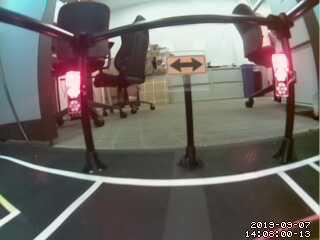Left_Right_sign: (271, 56, 288, 103), (67, 65, 78, 118)
